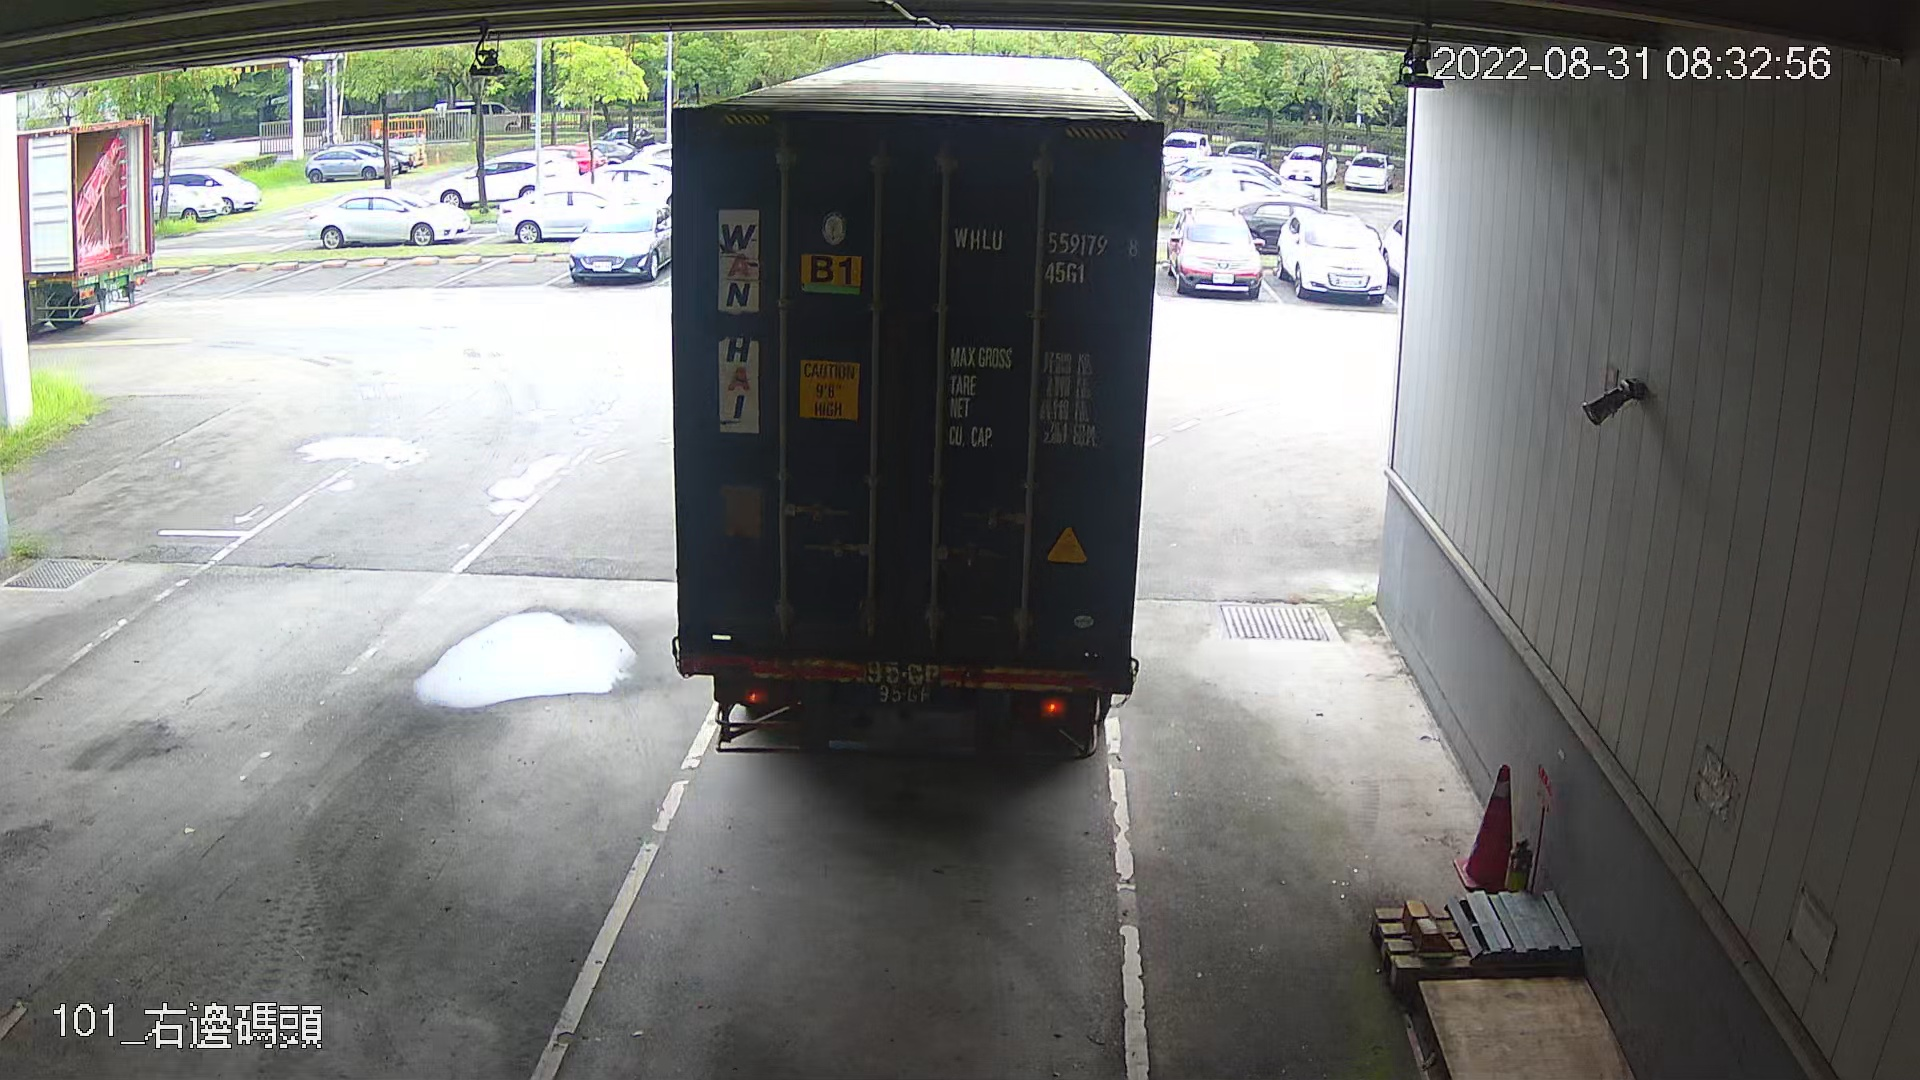container: (948, 218, 1147, 294)
